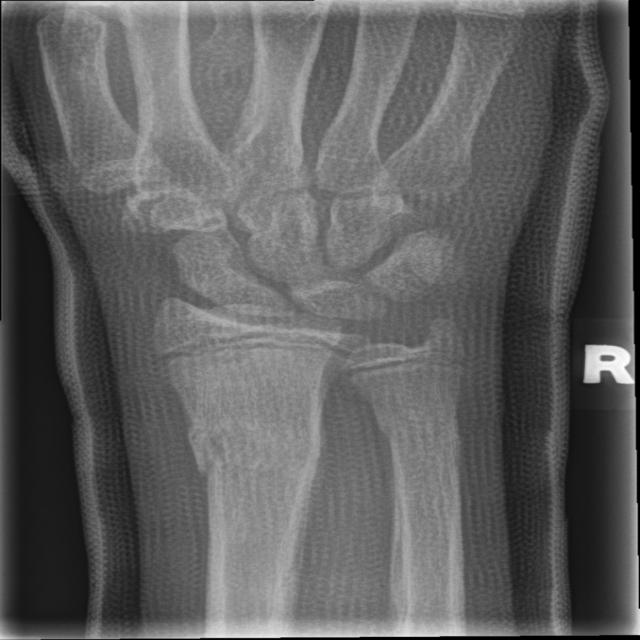radius fracture: (173, 393, 332, 580)
